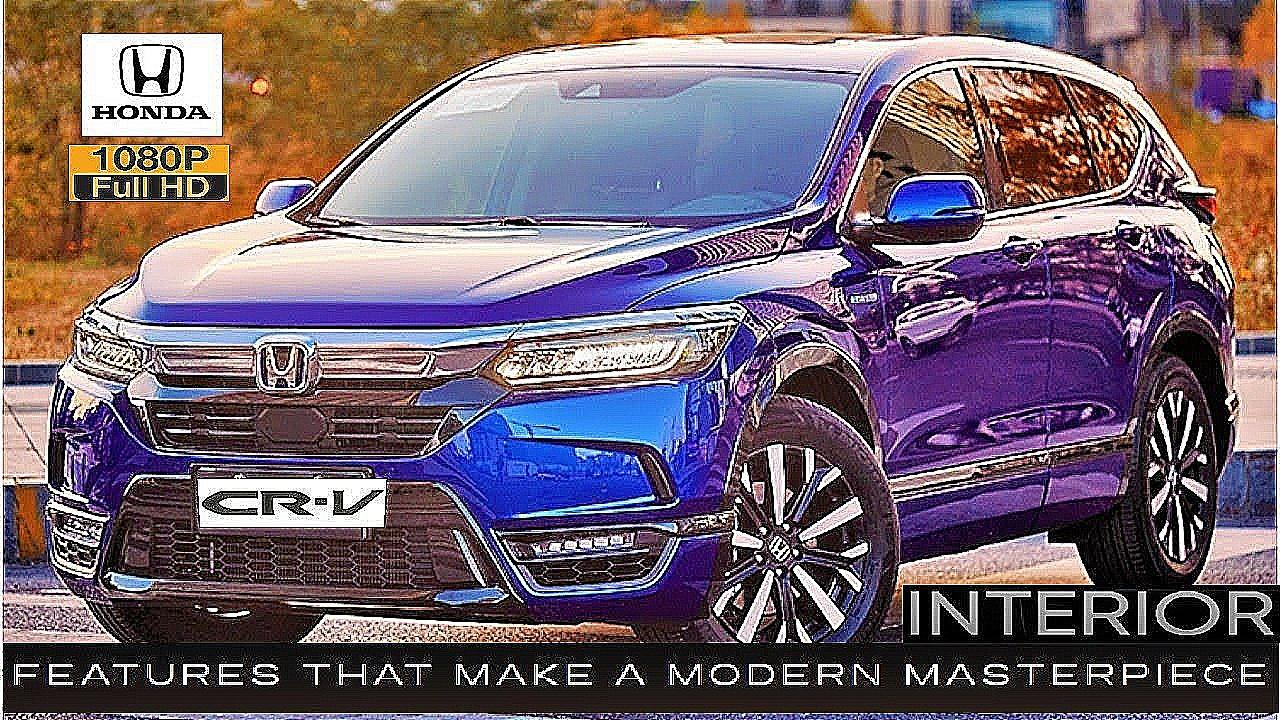Car hood: (85, 207, 795, 336)
Fender - -F-L-: (624, 198, 885, 475)
Fender - -R-L-: (1134, 180, 1223, 372)
Front bumper: (32, 355, 774, 639)
Headlight - -L-: (469, 295, 757, 407)
Headlight - -R-: (62, 295, 151, 398)
Passenger-s door - -F-L-: (880, 56, 1052, 490)
Passenger-s door - -R-L-: (989, 53, 1174, 494)
Rear bumper: (1210, 247, 1251, 484)
Rear light - -L-: (1165, 160, 1233, 235)
Side bumper - -L-: (881, 422, 1144, 568)
Side mirror - -L-: (848, 165, 998, 256)
Side mirror - -R-: (245, 167, 321, 233)
